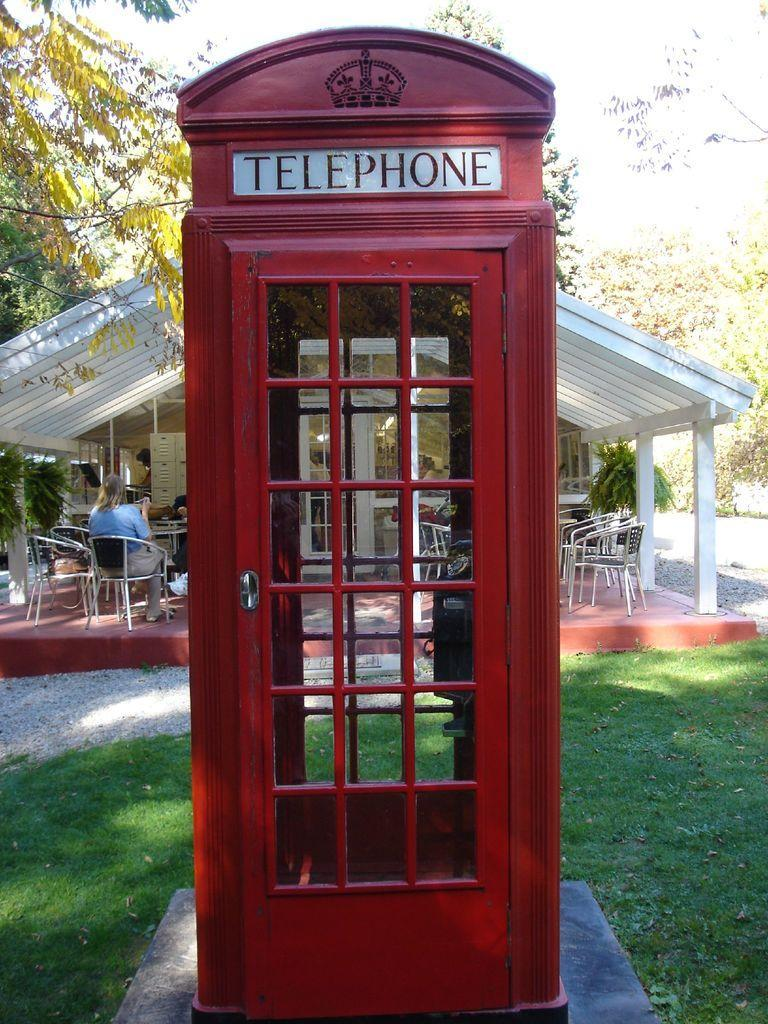door: (234, 252, 509, 1011)
handle: (232, 564, 259, 614)
